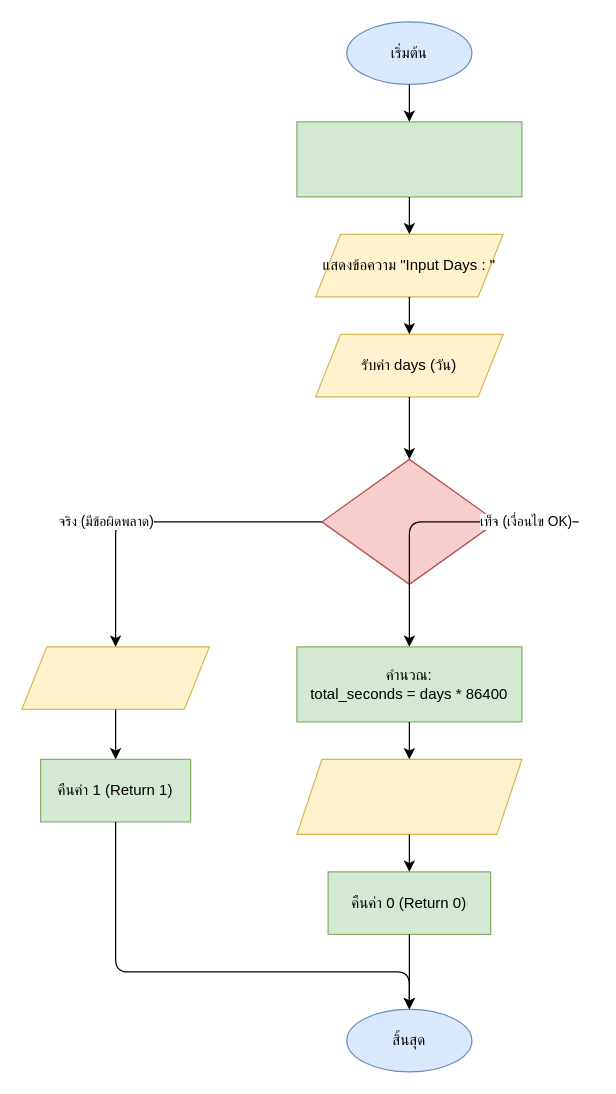
Some shapes in this 616 by 1094 pixel diagram are drawn without their labels. The shapes that lost their labels are listed below. From the top down, each one's centre as x and y in pixels, then its label:
(409,159): ประกาศตัวแปร days, total_seconds กำหนด SECONDS_PER_DAY = 86400
(409,521): การป้อนค่าผิดพลาด หรือ days < 0 ?
(115,677): แสดงข้อความ Error
(409,796): แสดงผลลัพธ์: days วัน = total_seconds วินาที
